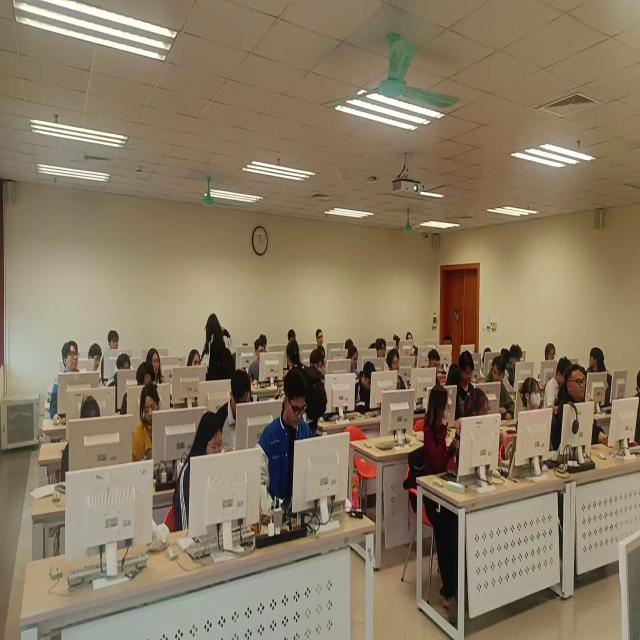raise_head: (552, 366, 610, 450), (134, 386, 169, 464), (51, 339, 80, 421), (520, 379, 544, 420), (387, 350, 408, 393), (147, 348, 167, 385), (633, 369, 640, 445), (407, 332, 419, 357), (188, 348, 203, 367), (107, 331, 121, 350), (376, 337, 387, 361), (443, 335, 454, 359), (317, 329, 325, 348)
stand: (286, 341, 328, 439), (203, 313, 235, 381)
using_computer: (256, 368, 311, 516), (173, 412, 224, 534), (61, 397, 102, 481), (217, 370, 252, 452), (120, 361, 156, 414), (109, 354, 137, 412), (355, 361, 377, 414), (458, 349, 477, 409), (251, 341, 269, 393), (447, 363, 464, 409), (464, 388, 491, 416), (429, 349, 442, 389), (348, 345, 360, 377), (510, 344, 523, 368), (482, 348, 493, 366), (259, 333, 268, 350), (288, 329, 297, 345), (346, 337, 355, 352)
